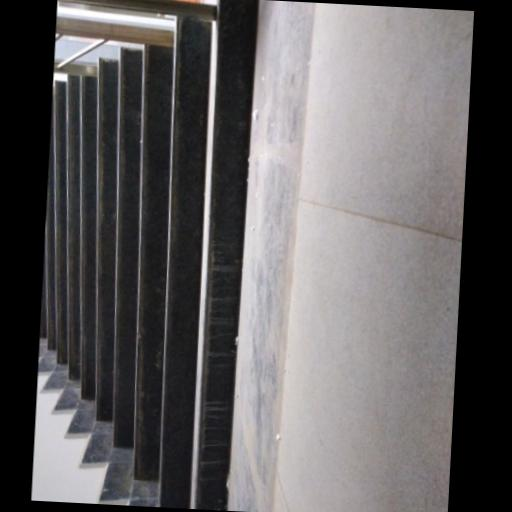stairs: (41, 0, 256, 510)
